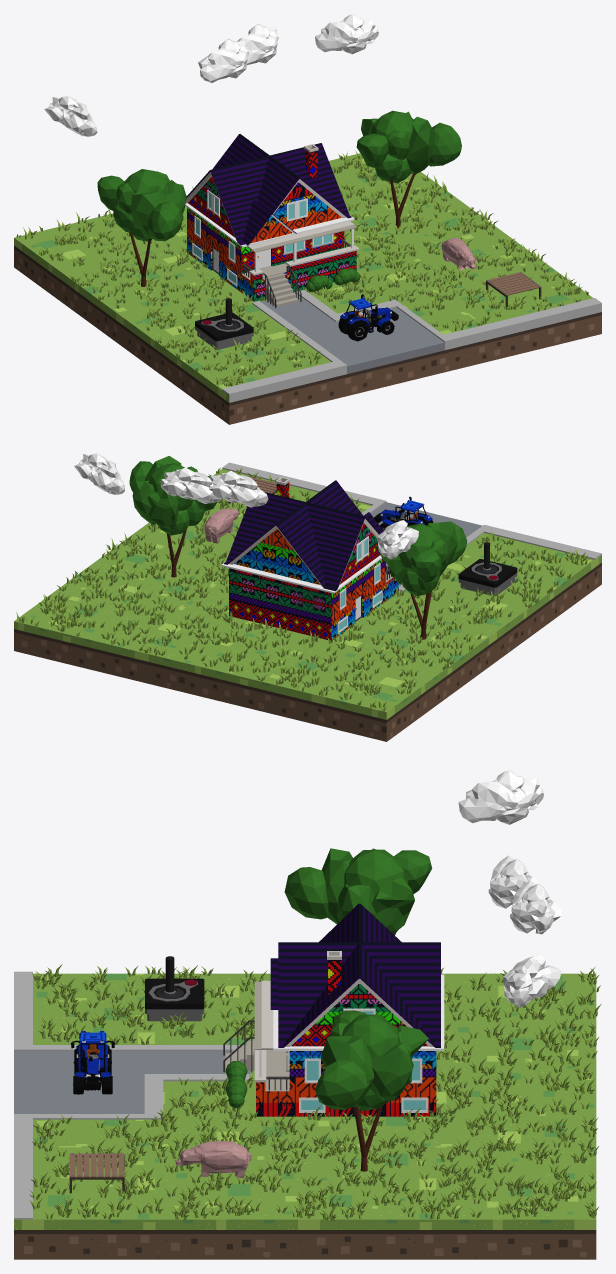
3 renders of one model, top to bottom at view 1: azimuth 30°, elevation 25°; view 2: azimuth 150°, elevation 25°; view 3: azimuth 270°, elevation 25°, orthographic. The views are drawn at different scales.
Visible parts, largest first — view 1: Cube.006, Cube.966, Circle.012_Grass_0.192, Cube.007, tree, tree.001, OBJRANDOM_JOYSTICK, VEHICLES_TRACTOR, Cube.009, ANIMAL_HIPOPOTAMO; view 2: Cube.006, Cube.966, Circle.012_Grass_0.192, Cube.007, tree.001, tree, OBJRANDOM_JOYSTICK, VEHICLES_TRACTOR, ANIMAL_HIPOPOTAMO; view 3: Cube.006, Circle.012_Grass_0.192, Cube.966, tree, Cube.007, tree.001, OBJRANDOM_JOYSTICK, VEHICLES_TRACTOR, ANIMAL_HIPOPOTAMO, Cube.009.
Boxes of the visible parts, left/top/right/bottom form: Cube.006: left=14, top=153, right=601, bottom=424; Cube.966: left=185, top=134, right=359, bottom=308; Circle.012_Grass_0.192: left=16, top=150, right=588, bottom=386; Cube.007: left=44, top=14, right=378, bottom=136; tree: left=356, top=110, right=461, bottom=228; tree.001: left=97, top=169, right=186, bottom=286; OBJRANDOM_JOYSTICK: left=195, top=298, right=253, bottom=349; VEHICLES_TRACTOR: left=338, top=294, right=398, bottom=341; Cube.009: left=486, top=272, right=541, bottom=306; ANIMAL_HIPOPOTAMO: left=441, top=238, right=476, bottom=270; Cube.006: left=14, top=462, right=601, bottom=741; Cube.966: left=221, top=477, right=398, bottom=640; Circle.012_Grass_0.192: left=16, top=468, right=588, bottom=711; Cube.007: left=74, top=453, right=418, bottom=559; tree.001: left=375, top=521, right=467, bottom=639; tree: left=129, top=456, right=216, bottom=577; OBJRANDOM_JOYSTICK: left=458, top=542, right=517, bottom=596; VEHICLES_TRACTOR: left=374, top=496, right=433, bottom=530; ANIMAL_HIPOPOTAMO: left=204, top=508, right=239, bottom=543; Cube.006: left=14, top=971, right=596, bottom=1259; Circle.012_Grass_0.192: left=29, top=964, right=601, bottom=1220; Cube.966: left=223, top=903, right=444, bottom=1116; tree: left=315, top=1010, right=428, bottom=1171; Cube.007: left=458, top=770, right=561, bottom=1007; tree.001: left=284, top=848, right=432, bottom=935; OBJRANDOM_JOYSTICK: left=145, top=956, right=204, bottom=1021; VEHICLES_TRACTOR: left=71, top=1031, right=114, bottom=1094; ANIMAL_HIPOPOTAMO: left=175, top=1141, right=251, bottom=1177; Cube.009: left=69, top=1153, right=124, bottom=1193.
Size of the model in its own units: 4071 by 2192 by 4040.
41 materials, 7 textured.
